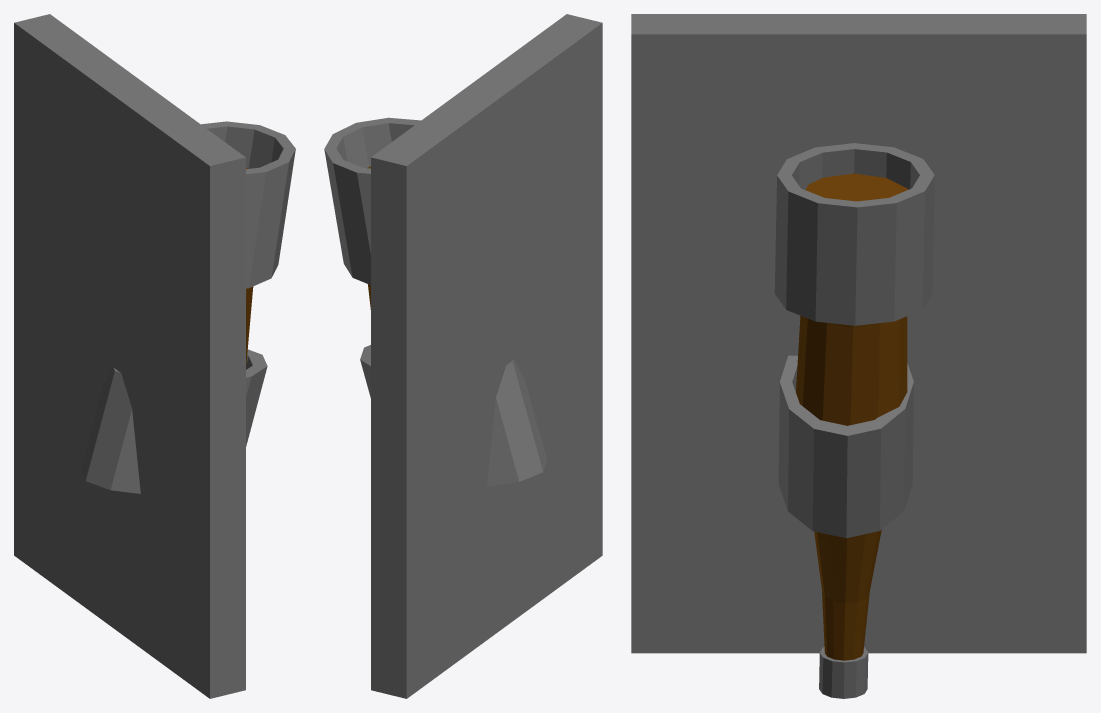
File: torch.glb
3 views of the same model, side by side, from view 1: azimuth 30°, elevation 25°; view 2: azimuth 150°, elevation 25°; view 3: azimuth 270°, elevation 25° (orthographic). The views are drawn at different scales.
Parts seen in each view (by area): view 1: Cube, Cylinder.002, Cylinder; view 2: Cube, Cylinder.002, Cylinder; view 3: Cube, Cylinder.002, Cylinder.001, Cylinder, Cylinder.003.
Boxes of the visible parts, <box> form: Cube: <box>14,14,245,698</box>; Cylinder.002: <box>201,121,295,288</box>; Cylinder: <box>80,349,267,493</box>; Cube: <box>371,14,602,698</box>; Cylinder.002: <box>324,117,420,284</box>; Cylinder: <box>360,345,547,486</box>; Cube: <box>631,14,1086,653</box>; Cylinder.002: <box>774,143,934,325</box>; Cylinder.001: <box>796,173,908,660</box>; Cylinder: <box>778,355,913,538</box>; Cylinder.003: <box>819,647,868,698</box>.
Size of the model in its own units: 0.2352 by 0.6123 by 0.3892.
